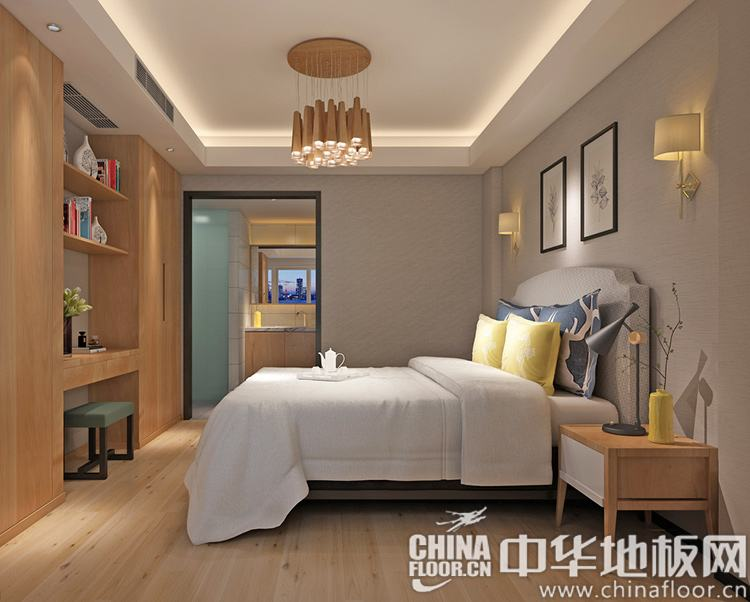床: (195, 356, 572, 517)
枕头: (473, 293, 625, 392)
灯: (283, 29, 382, 170), (649, 111, 705, 215), (41, 23, 62, 34), (161, 145, 175, 156)
